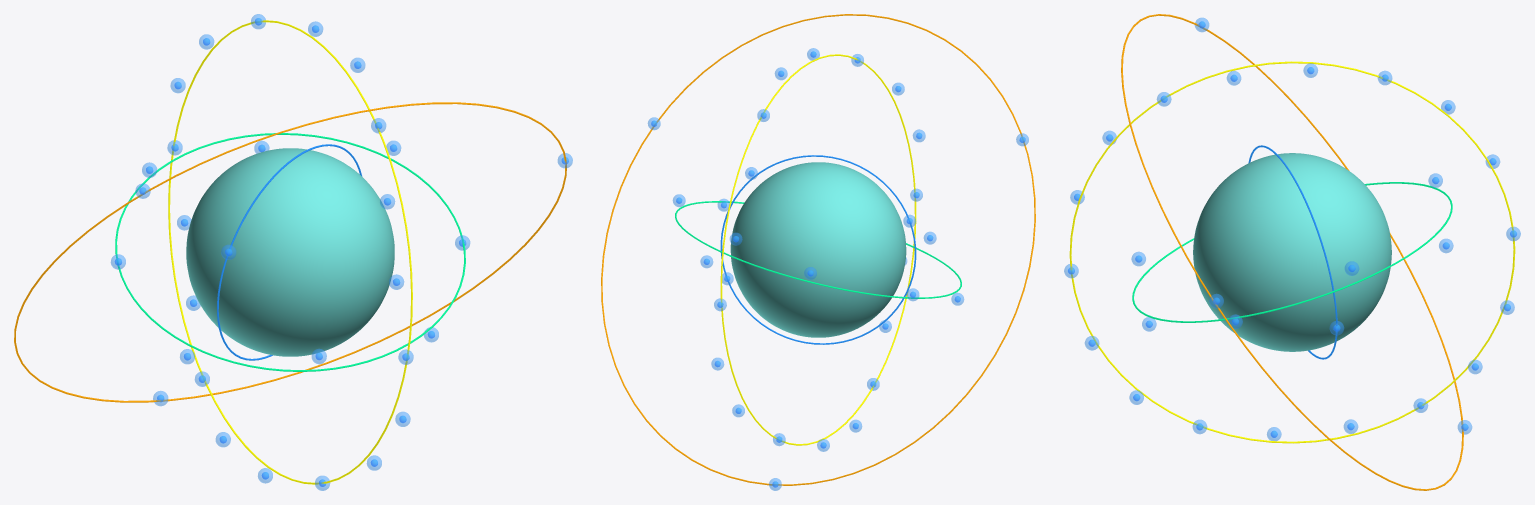
The picture shows the model from 3 angles, left to right: view 1: azimuth 30°, elevation 25°; view 2: azimuth 150°, elevation 25°; view 3: azimuth 270°, elevation 25°; orthographic projection. The views are drawn at different scales.
Visible parts, largest first — view 1: Ga, object 61, object 24, object 7, object 2; view 2: Ga, object 61, object 24, object 2, object 7; view 3: Ga, object 24, object 61, object 7, object 2.
Boxes of the visible parts, left/top/right/bottom form: Ga: left=186, top=148, right=394, bottom=356; object 61: left=14, top=102, right=566, bottom=402; object 24: left=168, top=20, right=412, bottom=484; object 7: left=115, top=133, right=465, bottom=371; object 2: left=217, top=144, right=362, bottom=360; Ga: left=730, top=162, right=906, bottom=337; object 61: left=601, top=14, right=1035, bottom=485; object 24: left=720, top=54, right=916, bottom=445; object 2: left=720, top=155, right=916, bottom=344; object 7: left=675, top=201, right=961, bottom=298; Ga: left=1193, top=153, right=1391, bottom=351; object 24: left=1069, top=61, right=1515, bottom=443; object 61: left=1121, top=14, right=1463, bottom=490; object 7: left=1132, top=182, right=1452, bottom=322; object 2: left=1248, top=145, right=1337, bottom=359.
Size of the model in its own units: 6 by 4.88 by 4.94.
